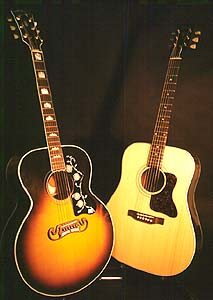guitar: (5, 7, 116, 296), (105, 25, 203, 276)
